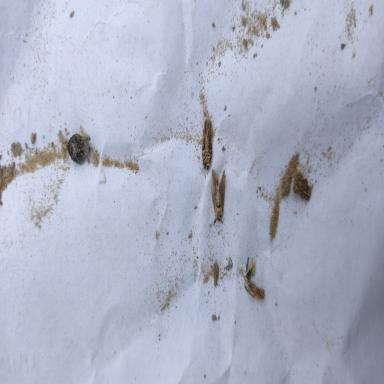pbw: (210, 168, 227, 224), (201, 104, 213, 171)
